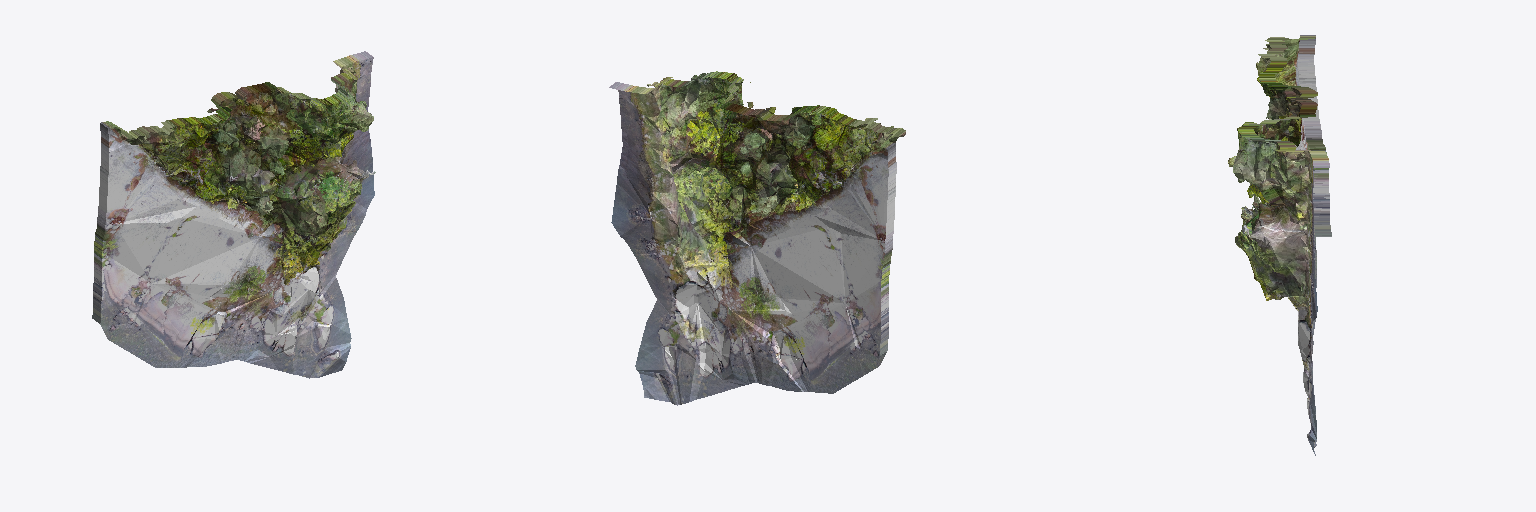
3 views of the same model, side by side, from view 1: azimuth 30°, elevation 25°; view 2: azimuth 150°, elevation 25°; view 3: azimuth 270°, elevation 25° (orthographic).
Bounding box in the file's own units: 58.62 × 62.53 × 19.23.
1 materials, 1 textured.